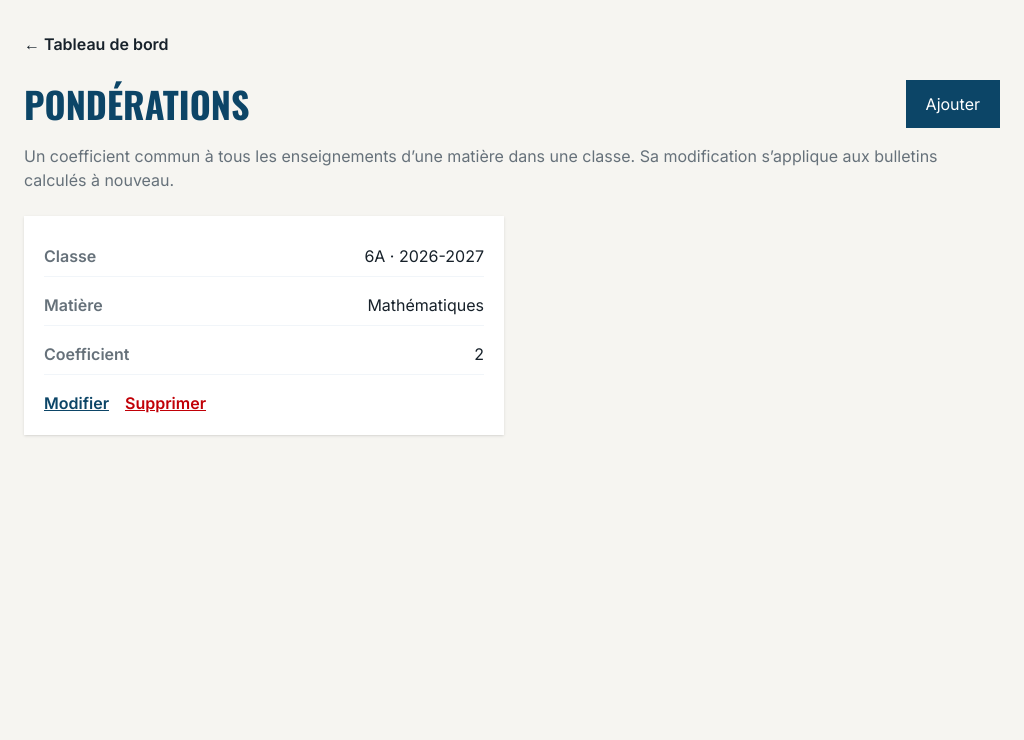
Scenario: affiche un conflit sans perdre le formulaire
This screenshot has width=1024, height=740.
Click the button "Modifier": (76, 403) [44,391,109,415]
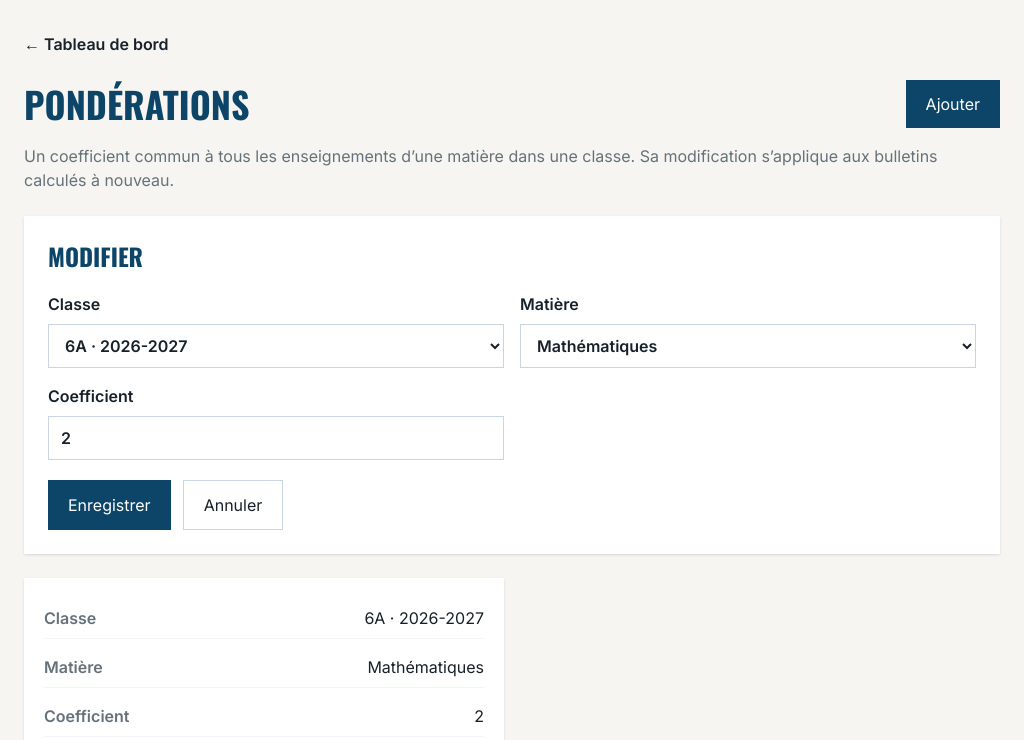
Click the button "Enregistrer": (109, 505) [48,480,171,530]
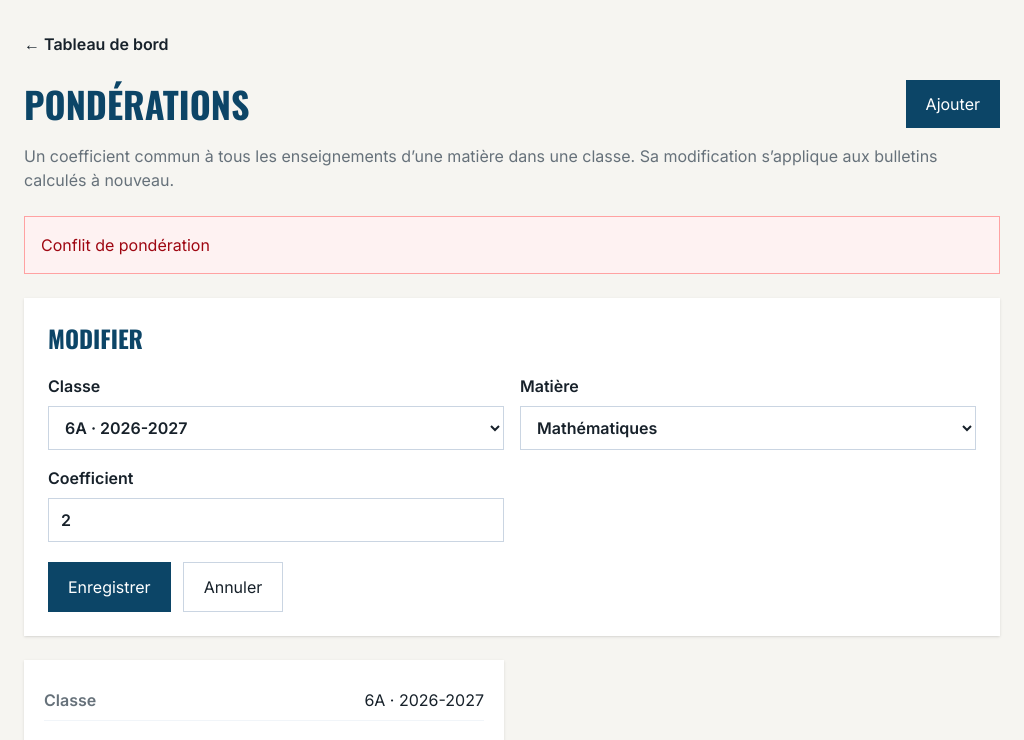
Check: the number field labelled "Coefficient" holds "2", box [48,498,504,542]
Check: the message reads "Conflit de pondération", box [41,235,210,255]
